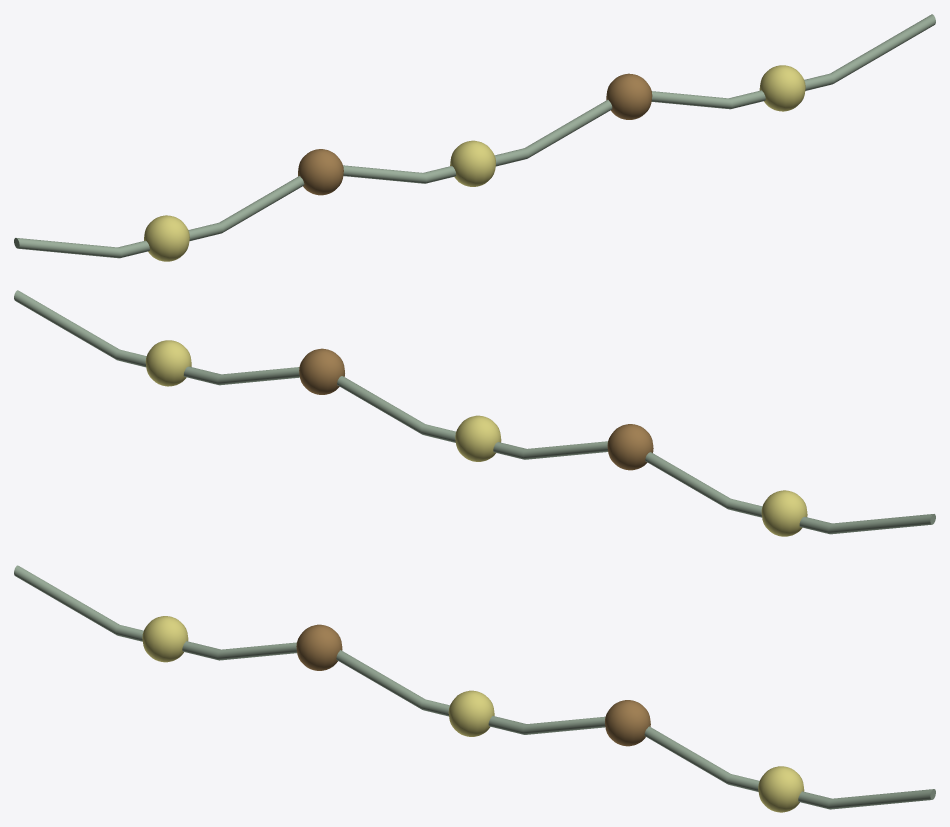
File: fairylights.fbx
3 renders of one model, top to bottom at view 1: azimuth 30°, elevation 25°; view 2: azimuth 150°, elevation 25°; view 3: azimuth 330°, elevation 25°, orthographic.
Parts seen in each view (by area): view 1: String, light, light4, light2, light5, light3; view 2: String, light2, light3, light, light4, light5; view 3: String, light2, light, light4, light5, light3.
Part boxes in pixels (x1,y1,x2,y2): String: [14, 14, 935, 258]; light: [144, 215, 189, 261]; light4: [606, 73, 652, 119]; light2: [298, 149, 343, 195]; light5: [759, 65, 805, 111]; light3: [450, 140, 495, 186]; String: [14, 290, 935, 534]; light2: [607, 424, 653, 470]; light3: [455, 415, 501, 461]; light: [761, 490, 807, 536]; light4: [299, 348, 344, 394]; light5: [145, 340, 191, 386]; String: [14, 565, 935, 809]; light2: [296, 624, 342, 670]; light: [142, 616, 188, 662]; light4: [605, 700, 650, 746]; light5: [758, 766, 804, 812]; light3: [448, 690, 494, 736].
Bounding box in the file's own units: 99.85 × 7.39 × 4.38.
